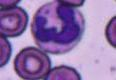N: (31, 1, 85, 54)
